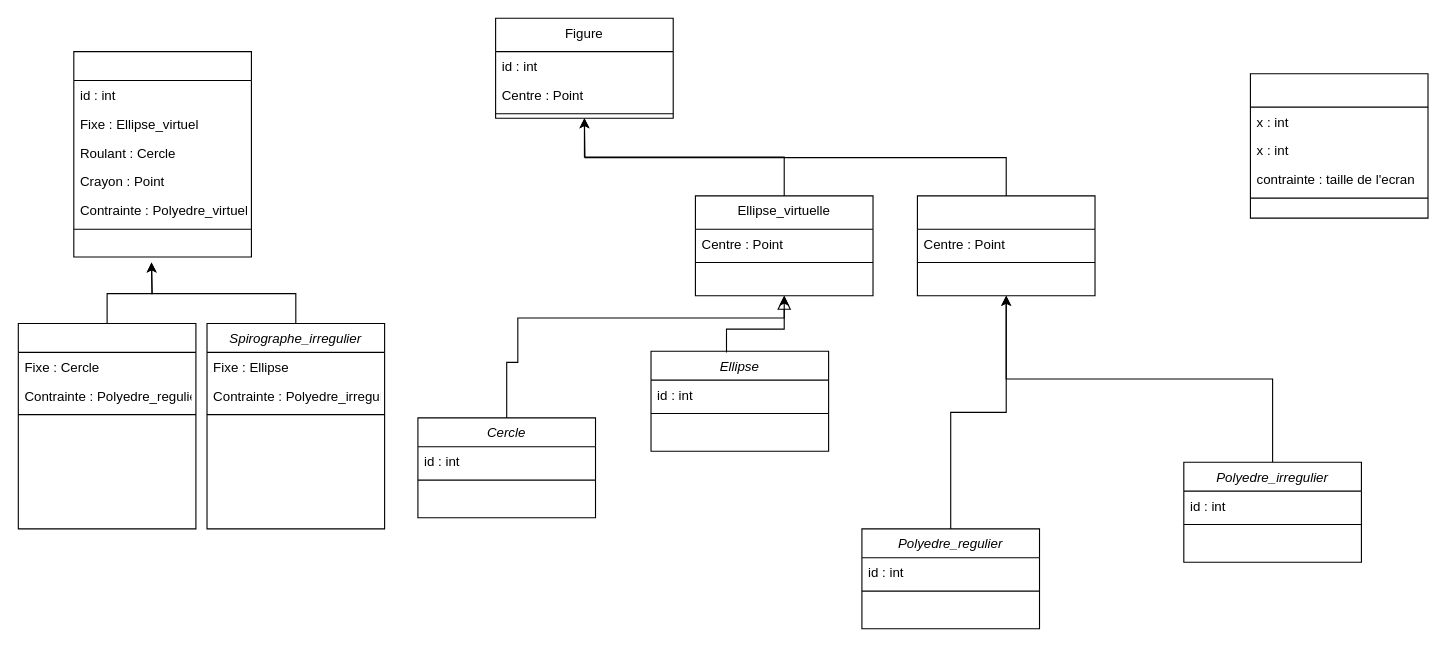
Image size: 1446x647. Some labels were removed from this diagram. Each missing label, with the box of its shape:
Point: (1249, 73, 1428, 218)
Polyedre_virtuel: (916, 195, 1095, 296)
Spirograph_virtuelle: (73, 51, 251, 257)
Spirographe_regulier: (17, 322, 196, 529)
